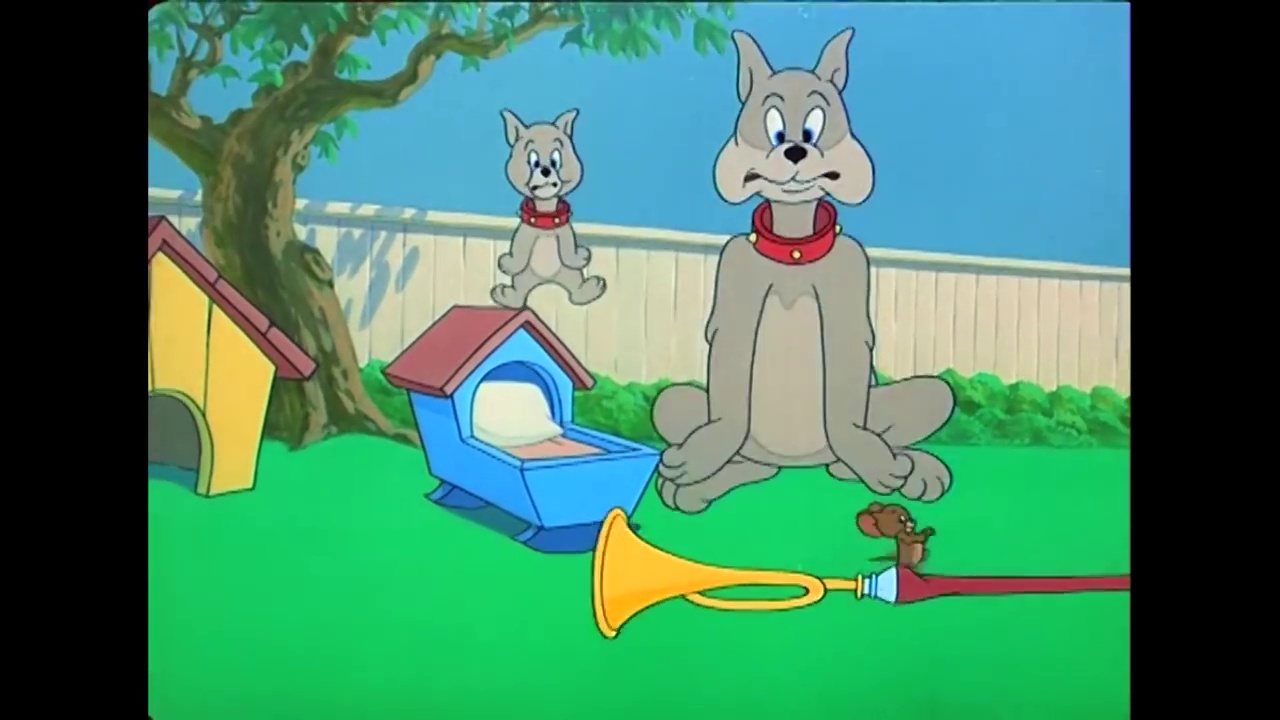spike: (711, 29, 879, 210)
